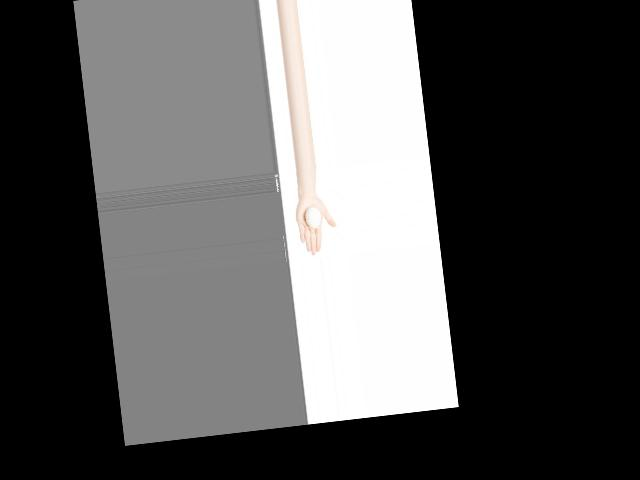egg: (304, 206, 321, 229)
